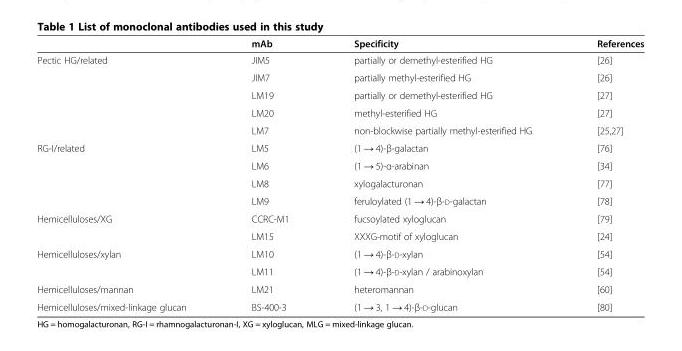table: (36, 37, 643, 312)
table column: (320, 37, 563, 312), (36, 37, 218, 312), (218, 37, 320, 312), (563, 37, 643, 312)
table column header: (36, 37, 643, 51)
table row: (36, 261, 643, 280), (36, 68, 643, 86), (36, 103, 643, 121), (36, 138, 643, 156), (36, 156, 643, 174), (36, 191, 643, 209), (36, 209, 643, 227), (36, 51, 643, 68), (36, 86, 643, 103), (36, 121, 643, 138), (36, 174, 643, 191), (36, 227, 643, 244), (36, 244, 643, 261), (36, 280, 643, 297), (36, 297, 643, 312), (36, 37, 643, 51)
table spanning cell: (36, 51, 218, 138), (36, 138, 218, 209), (36, 244, 218, 280), (36, 209, 218, 244)
